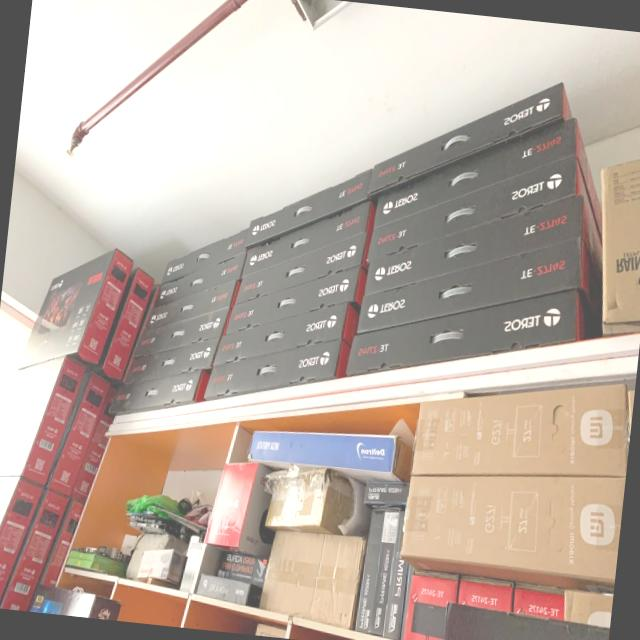caja-monitor: (401, 475, 625, 587), (368, 82, 570, 196), (368, 151, 579, 259), (375, 119, 578, 226), (365, 194, 582, 293), (360, 239, 582, 333), (346, 289, 583, 375), (412, 384, 628, 476), (17, 249, 133, 368), (0, 356, 89, 485), (245, 169, 372, 246), (227, 266, 365, 333), (214, 303, 358, 366), (246, 201, 371, 271), (238, 233, 366, 301), (206, 338, 349, 397), (5, 489, 67, 610), (49, 373, 108, 497), (103, 269, 154, 380), (0, 477, 41, 601), (135, 308, 227, 356), (159, 253, 245, 304), (163, 229, 247, 281), (111, 370, 206, 413), (404, 574, 457, 640), (133, 339, 217, 380), (457, 578, 513, 611), (513, 588, 565, 620)
